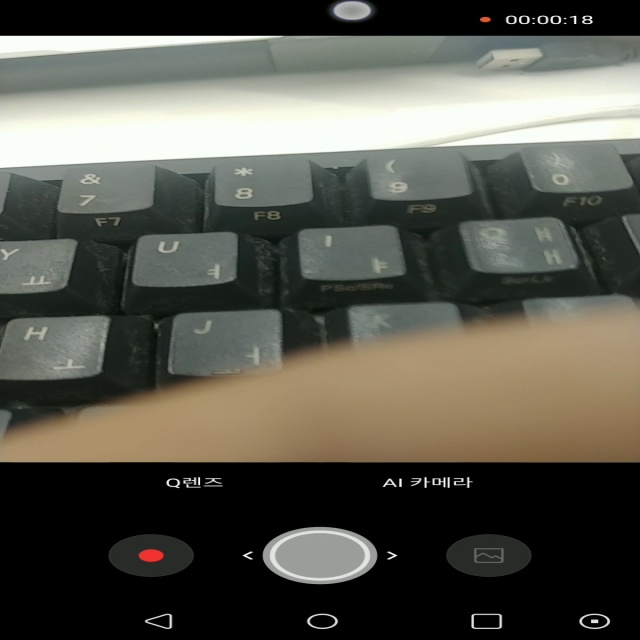Cursor: (329, 1, 374, 23)
